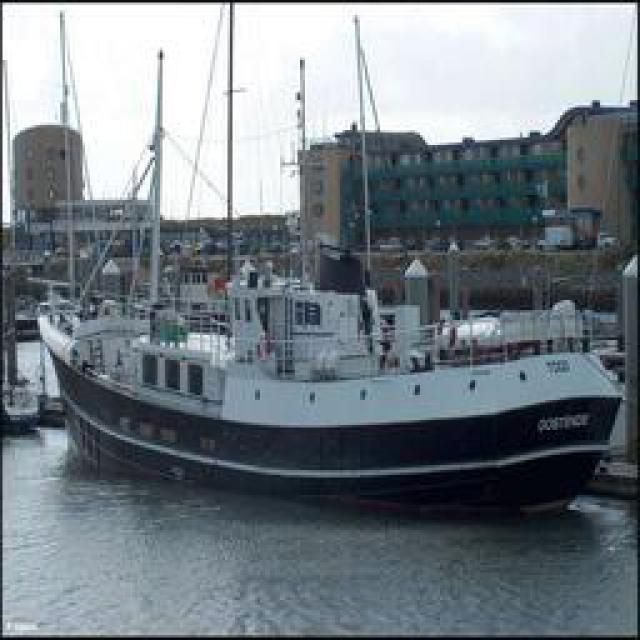Ship: (39, 2, 634, 512)
